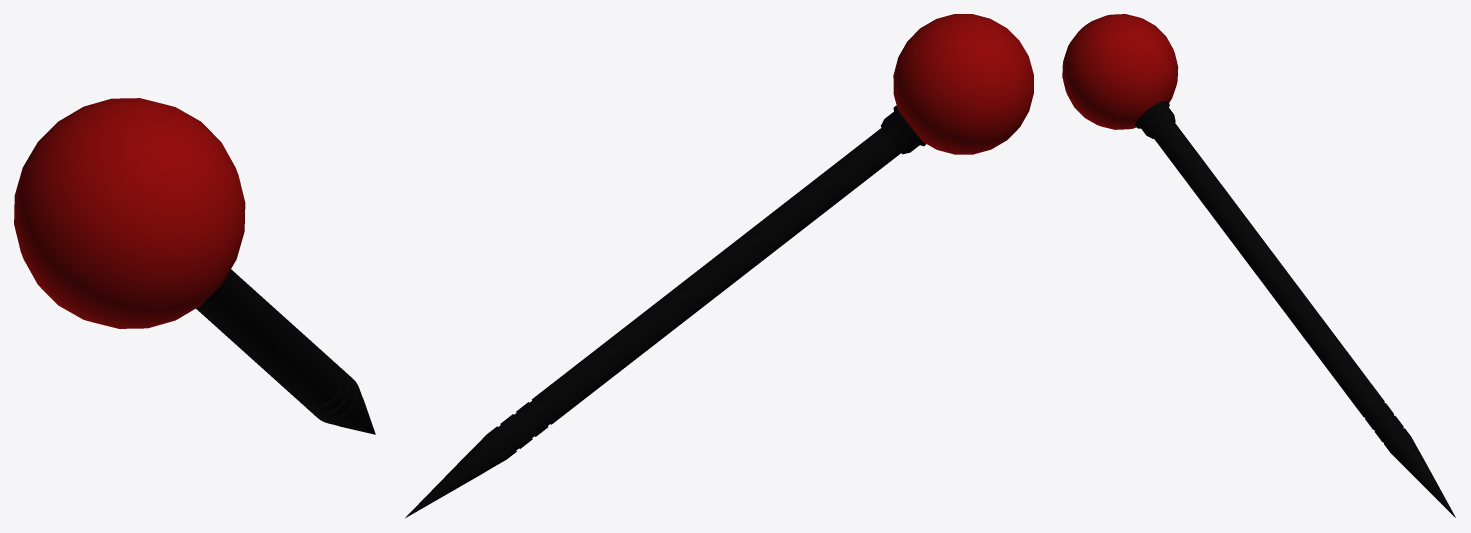
Rendered from DARKRED.glb.
3 views of the same model, side by side, from view 1: azimuth 30°, elevation 25°; view 2: azimuth 150°, elevation 25°; view 3: azimuth 270°, elevation 25° (orthographic). The views are drawn at different scales.
Visible parts, largest first — view 1: Sphere, Needle; view 2: Needle, Sphere, Ball_Holder; view 3: Needle, Sphere, Ball_Holder.
Part boxes in pixels (x1=…): Sphere: x1=14, y1=98, x2=245, y2=328; Needle: x1=196, y1=269, x2=375, y2=434; Needle: x1=405, y1=128, x2=900, y2=518; Sphere: x1=893, y1=14, x2=1033, y2=154; Ball_Holder: x1=881, y1=105, x2=926, y2=154; Needle: x1=1152, y1=120, x2=1455, y2=517; Sphere: x1=1062, y1=14, x2=1178, y2=129; Ball_Holder: x1=1135, y1=101, x2=1175, y2=138.
Bounding box in the file's own units: 7.45 × 7.45 × 7.45.
